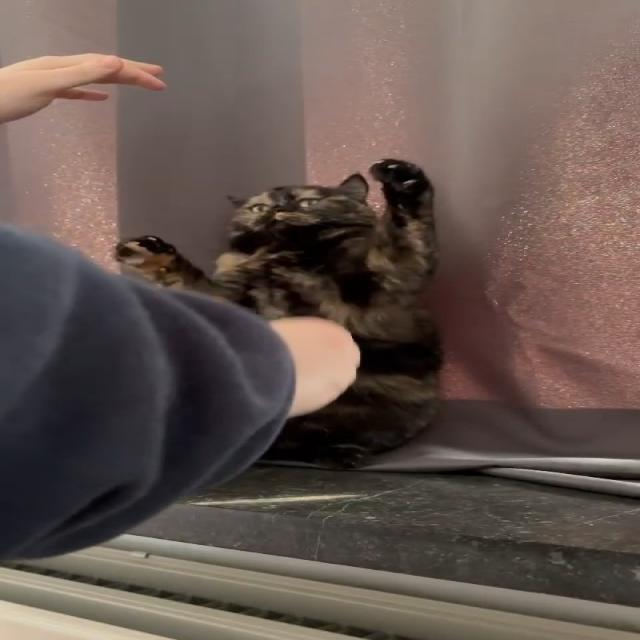authorized: (113, 158, 446, 469)
